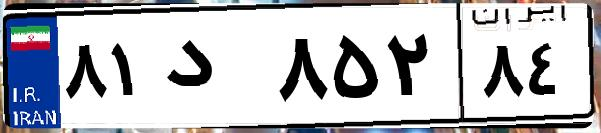1: (110, 28, 158, 98)
2: (385, 28, 445, 110)
4: (525, 38, 570, 115)
5: (330, 28, 385, 110)
8: (270, 28, 330, 110), (57, 26, 110, 100), (475, 38, 525, 113)
د: (158, 20, 270, 120)
